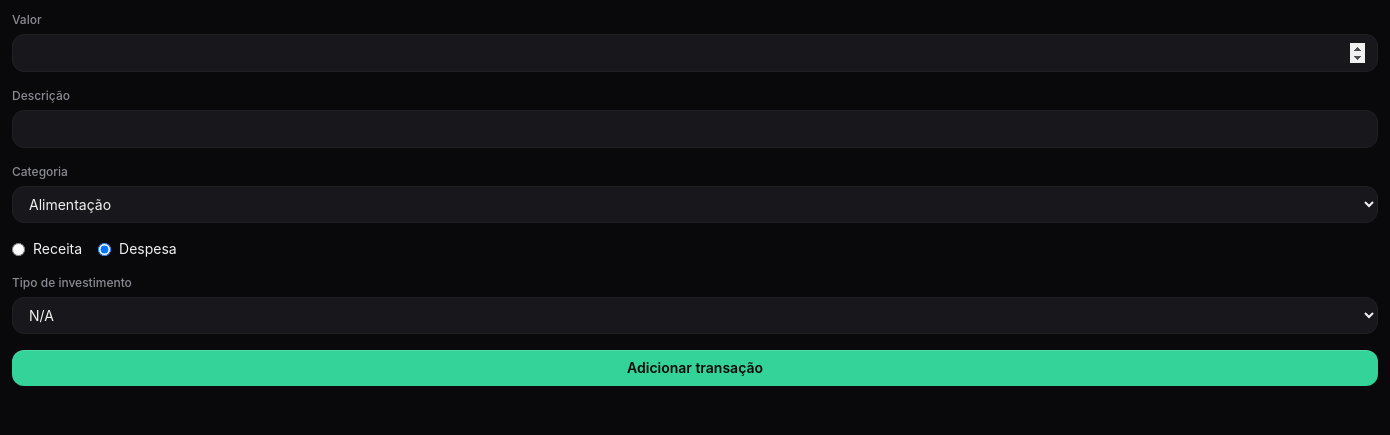
Test: TransactionForm › shows the #conjunto hint when the tag is typed
Type "Aluguel #conjunto" into the field labelled "Descrição" at {"x": 695, "y": 129}, box [12,110,1378,148]
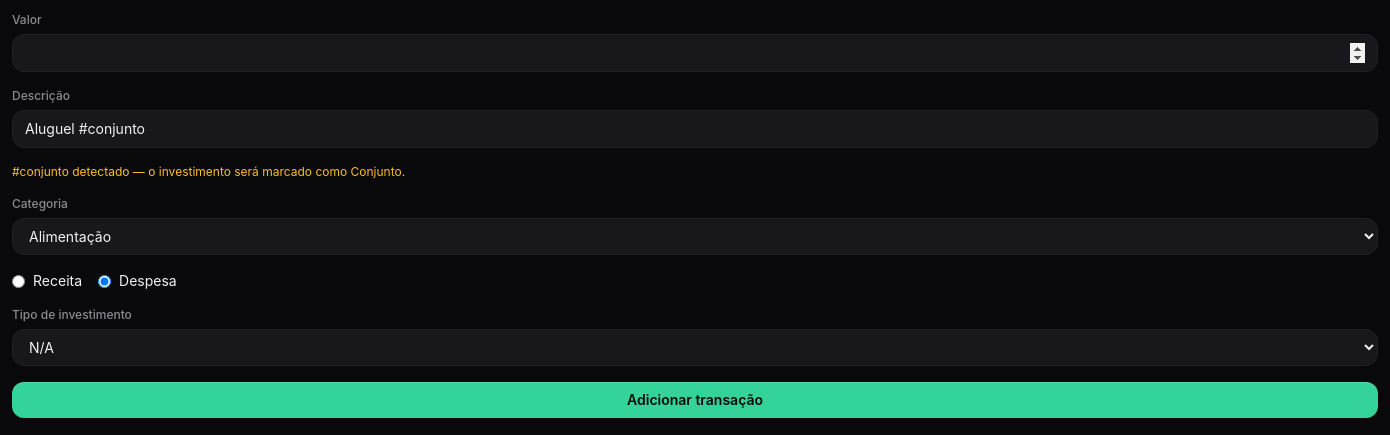
Expected: the text "#conjunto detectado — o investimento será marcado como Conjunto." is shown, [12,164,405,179]
